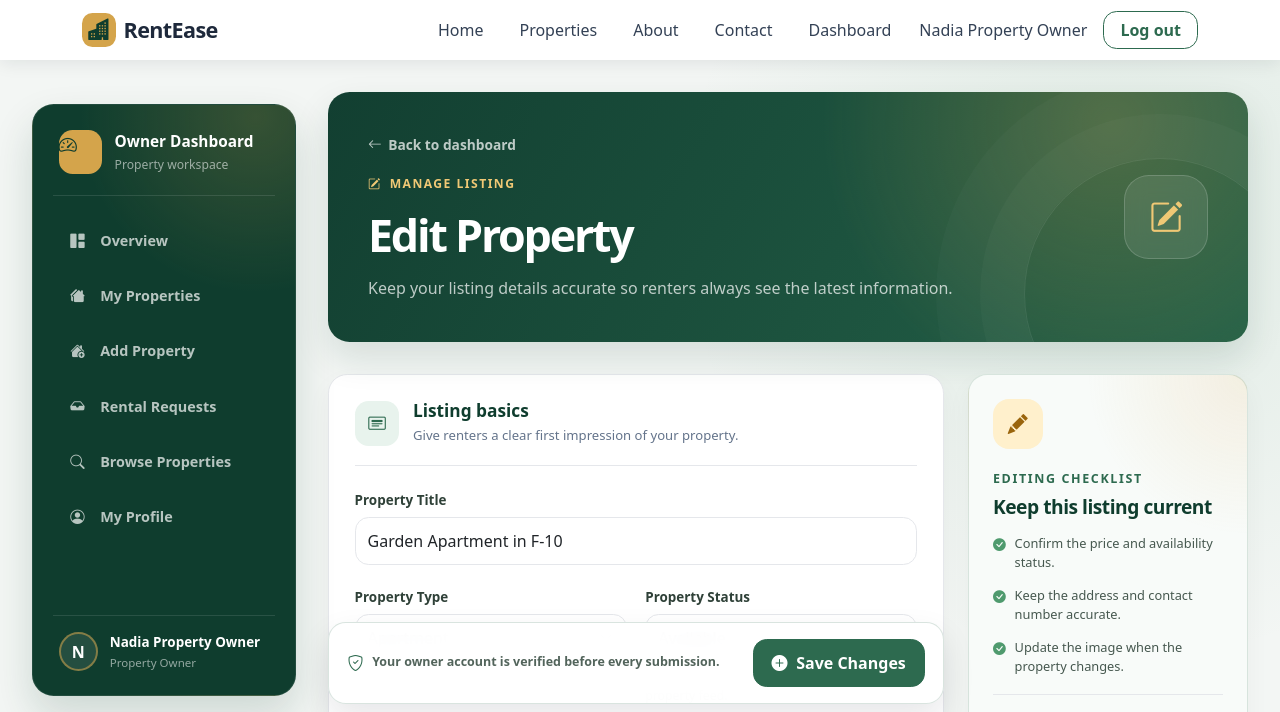
Test: Phase 2 Day 5 property management › updates the owner property and returns to the refreshed dashboard
Expected: the heading "Edit Property" is shown, left=368, top=204, right=632, bottom=265
Replace the text in the field labelled "Property Title" with "Updated Garden Apartment" at (636, 541), box left=355, top=517, right=917, bottom=565
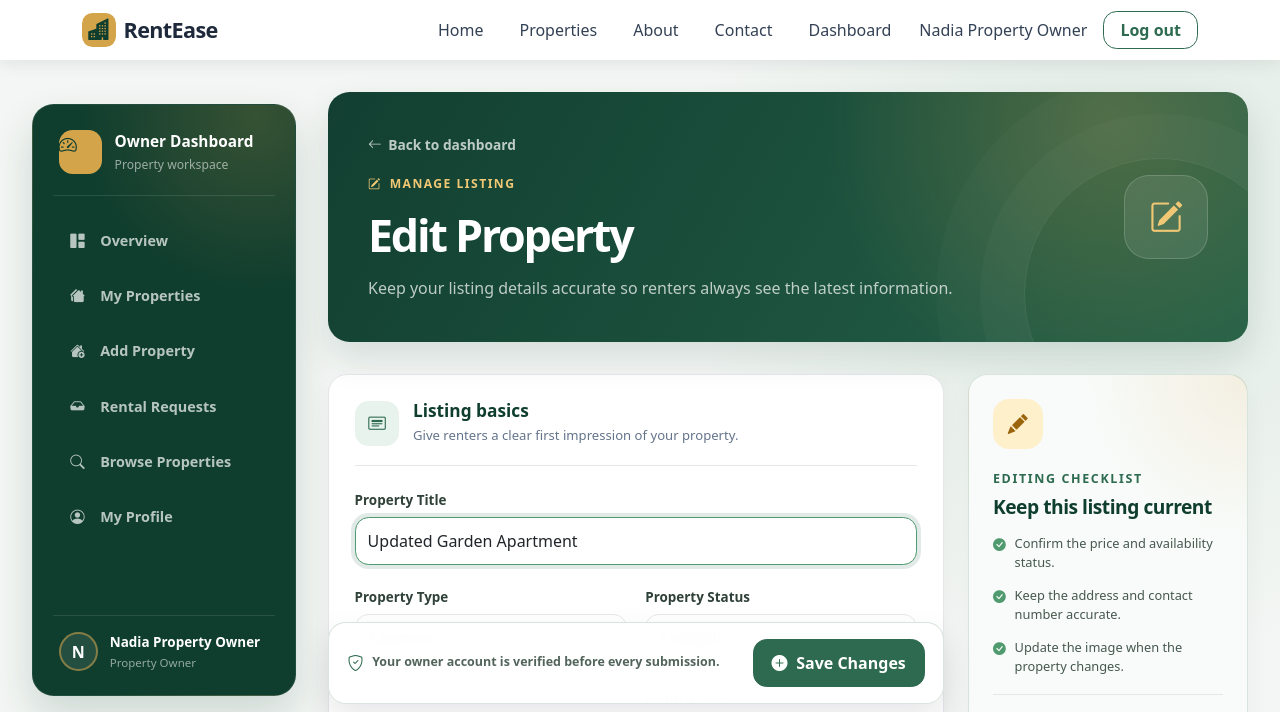
Click the button "Save Changes" at (839, 663), box left=753, top=639, right=925, bottom=687
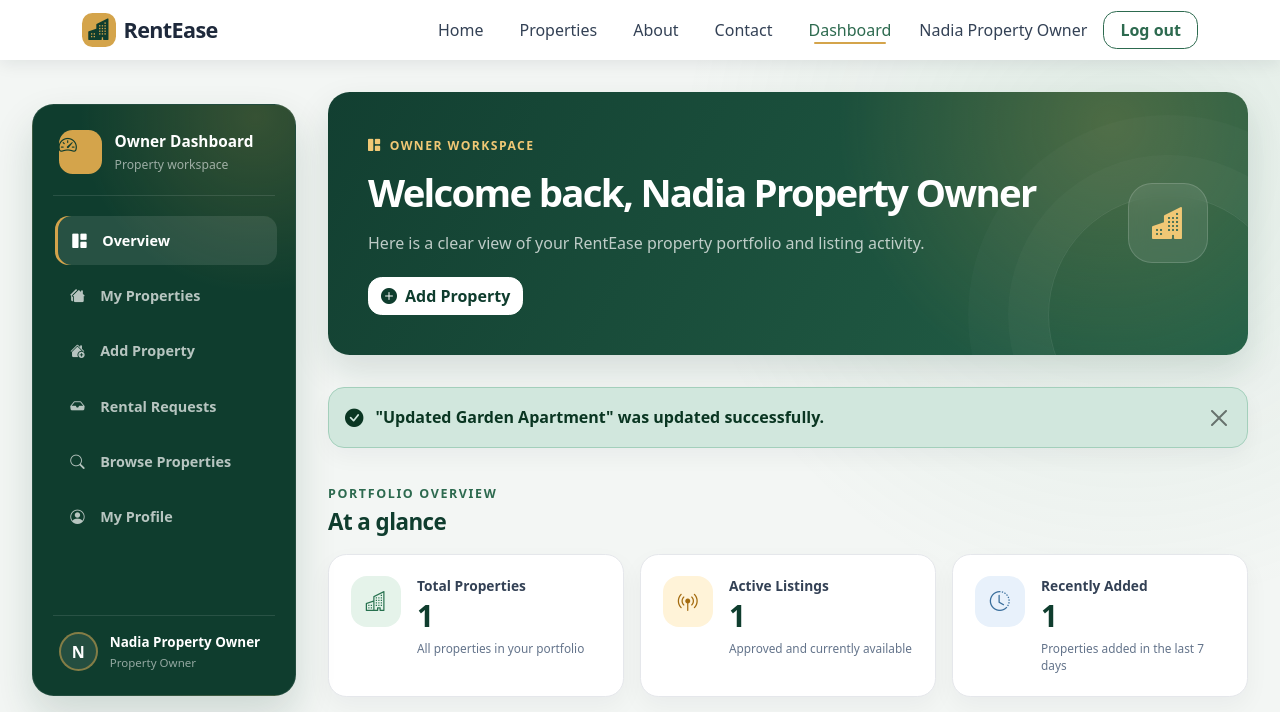
Result: the text "\"Updated Garden Apartment\" was updated successfully." is shown at left=375, top=406, right=824, bottom=428
